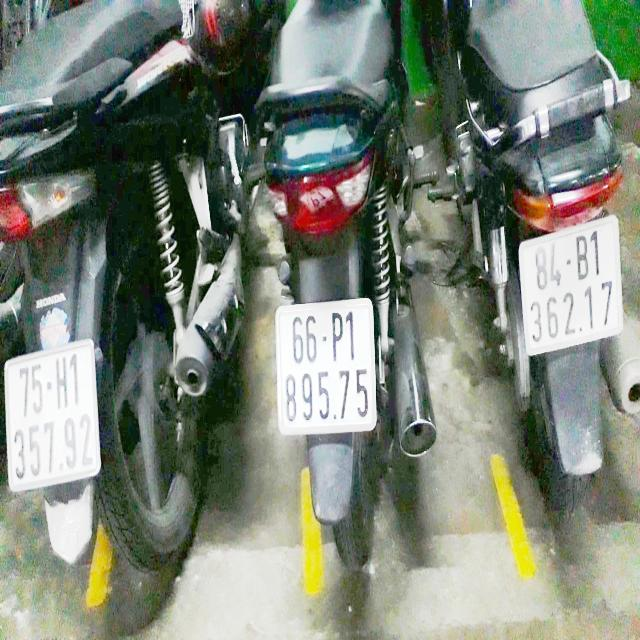license_plate: (522, 220, 620, 351), (9, 342, 97, 487), (281, 301, 374, 431)
